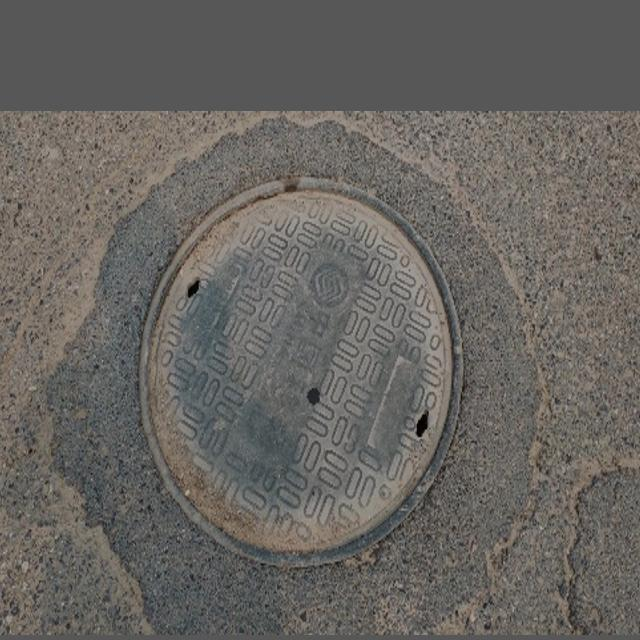good: (138, 193, 465, 563)
